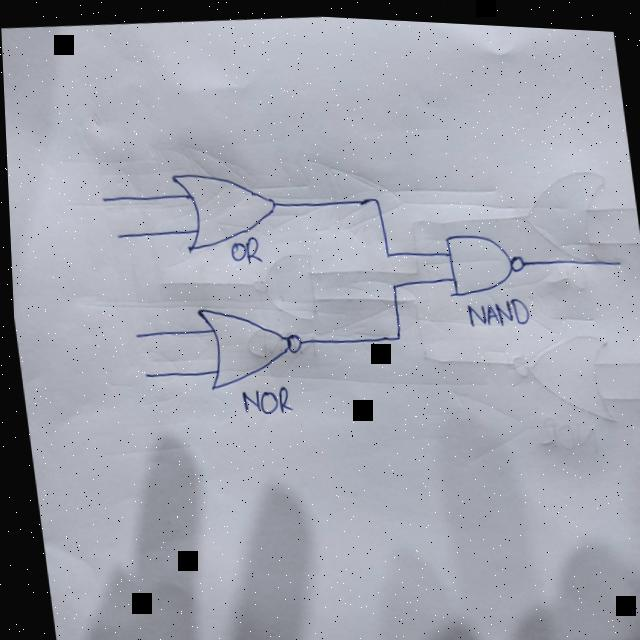junction: (366, 187, 380, 203), (388, 323, 399, 338), (379, 243, 388, 256), (386, 274, 395, 286)
terminal: (607, 247, 623, 263), (93, 190, 108, 204), (109, 227, 122, 240), (126, 328, 138, 339), (137, 368, 147, 378)
text: (460, 287, 528, 325), (236, 378, 289, 416), (225, 229, 260, 263)
